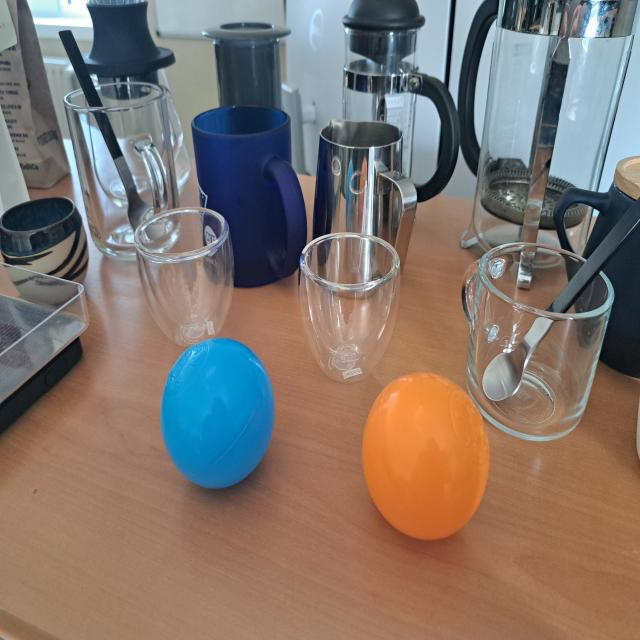blue: (158, 334, 277, 495)
orange: (362, 371, 490, 544)
